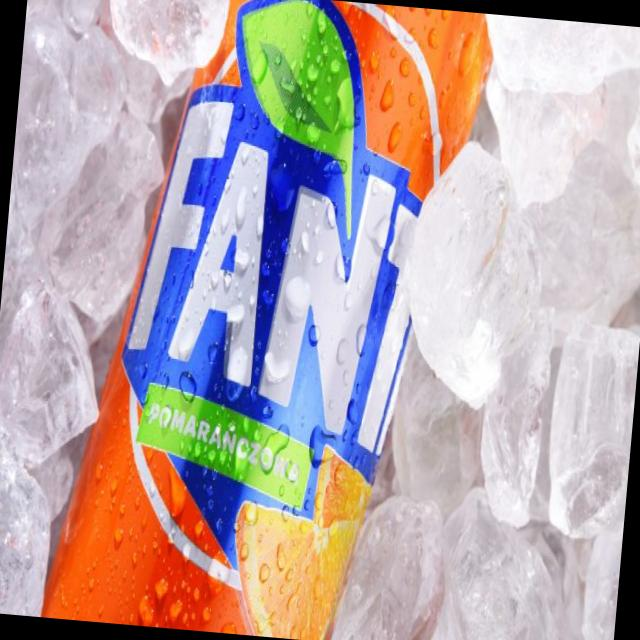fanta: (46, 0, 498, 640)
